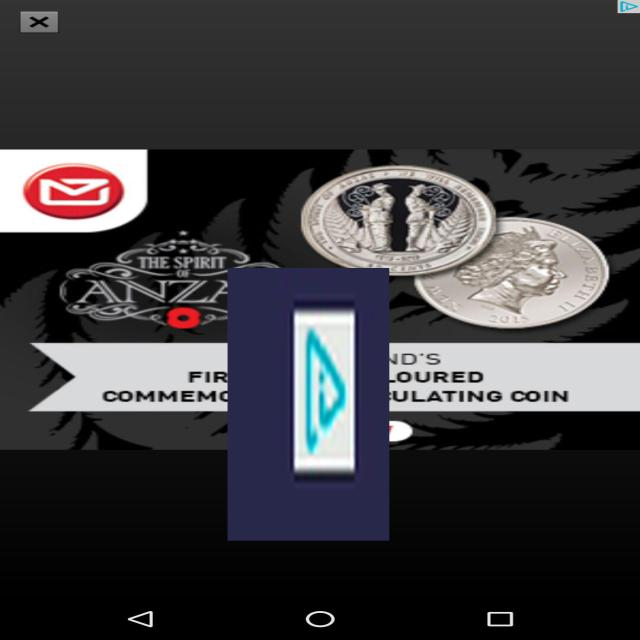sneaking: (228, 268, 390, 541)
